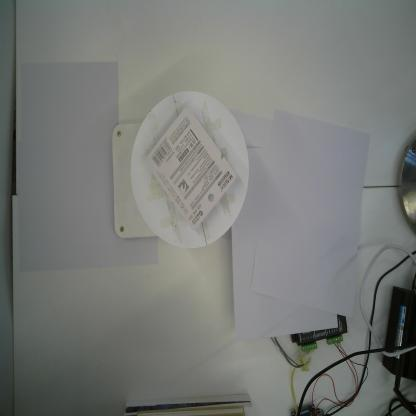Stationery: (146, 106, 237, 230)
